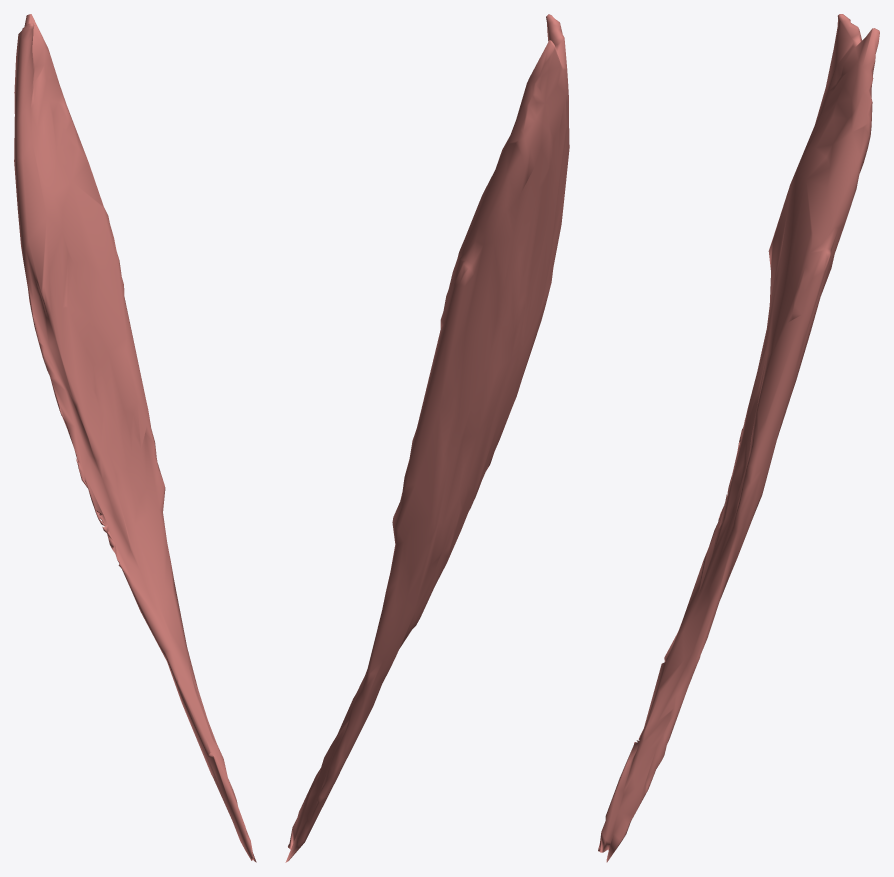
3 views of the same model, side by side, from view 1: azimuth 30°, elevation 25°; view 2: azimuth 210°, elevation 25°; view 3: azimuth 270°, elevation 25° (orthographic). The views are drawn at different scales.
Visible parts, largest first — view 1: ZA_03222d0709174d32; view 2: ZA_03222d0709174d32; view 3: ZA_03222d0709174d32.
Part boxes in pixels (left/top/right/bottom): ZA_03222d0709174d32: left=14, top=14, right=256, bottom=862; ZA_03222d0709174d32: left=285, top=14, right=569, bottom=862; ZA_03222d0709174d32: left=598, top=14, right=879, bottom=862.
Size of the model in its own units: 0.0416 by 0.2201 by 0.0708.
